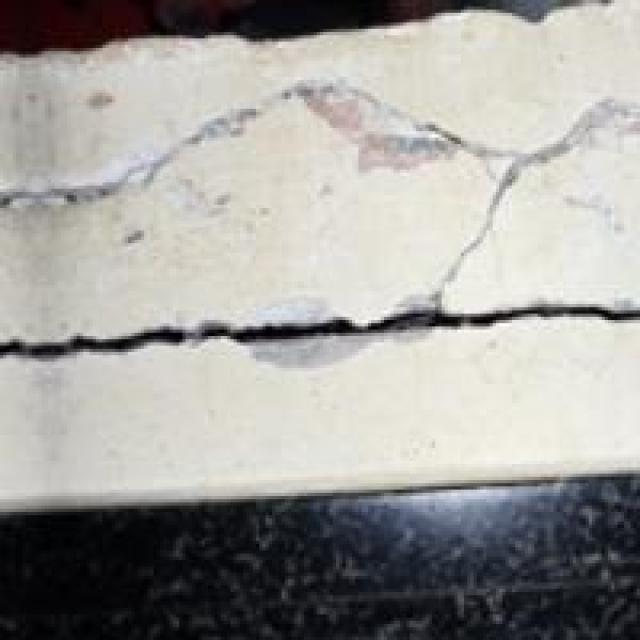crack: (9, 121, 636, 442)
